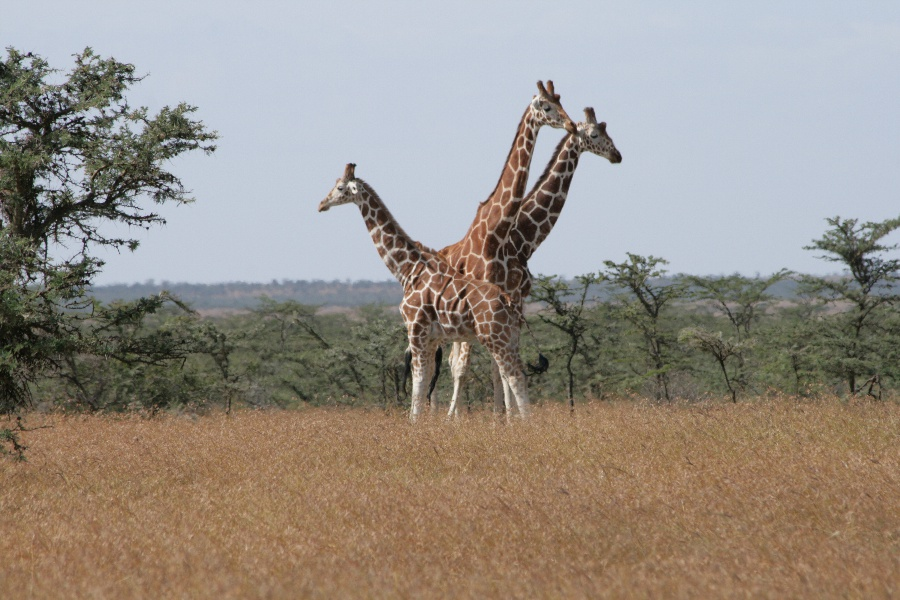giraffe: (308, 155, 540, 426)
